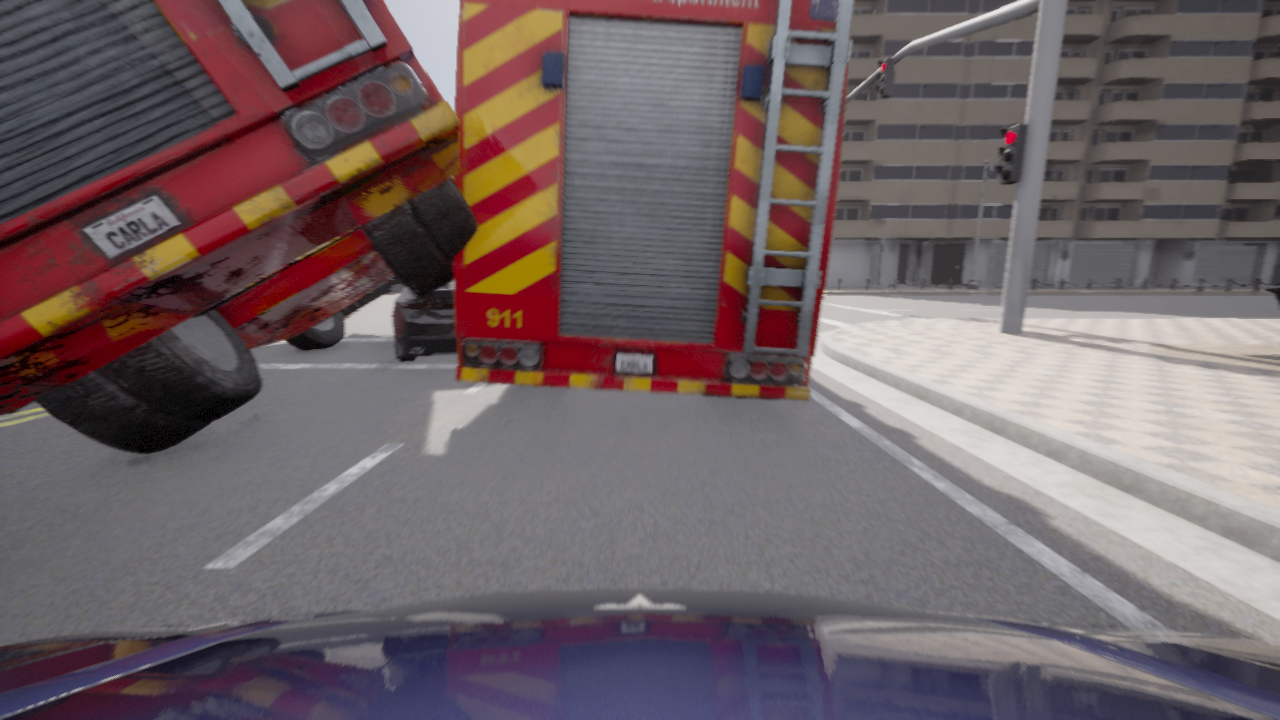cyclist: (0, 588, 1279, 719), (453, 0, 853, 400), (390, 277, 457, 361)
